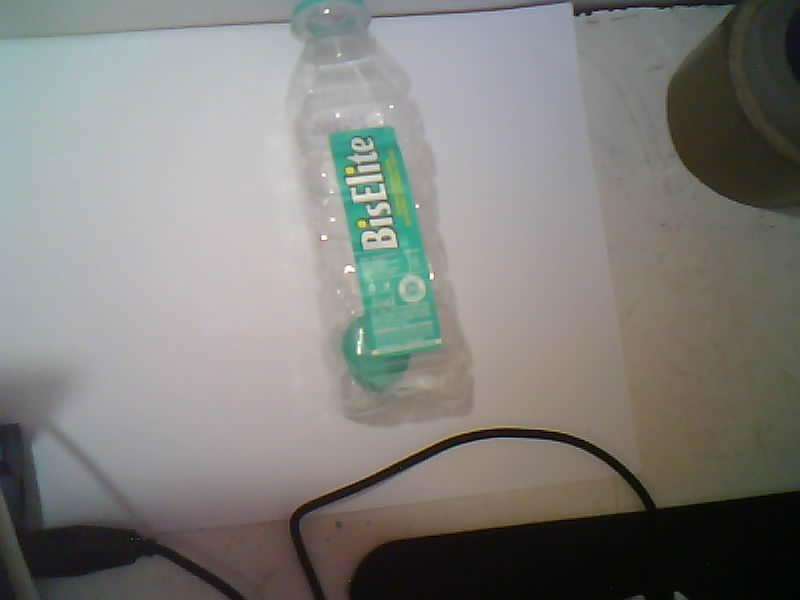non-biodegradable: (289, 0, 471, 421)
